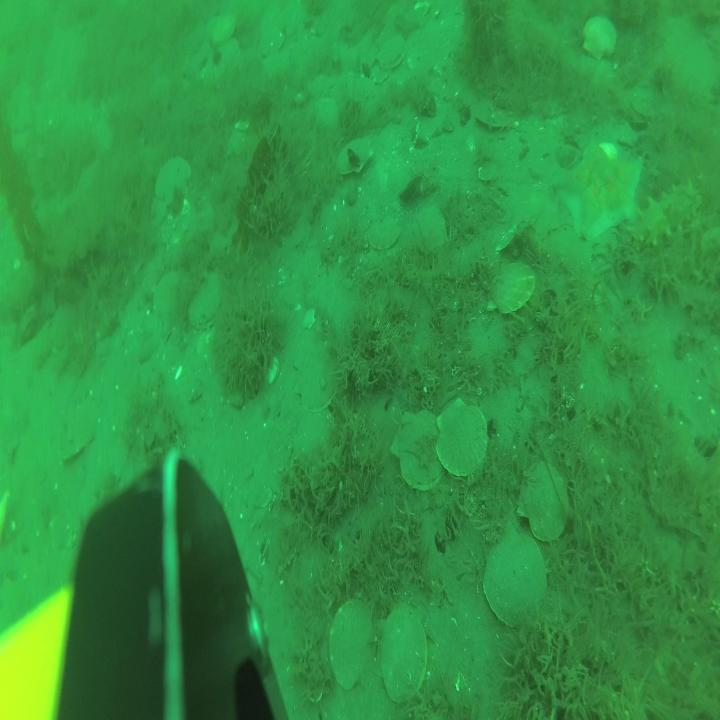holothurian: (633, 180, 707, 263)
scallop: (484, 533, 551, 630), (378, 595, 430, 709), (516, 455, 573, 546), (390, 409, 448, 498), (436, 393, 488, 482), (330, 600, 372, 694), (492, 259, 536, 316), (152, 270, 190, 324), (188, 276, 228, 327), (154, 158, 195, 207), (415, 204, 449, 261), (582, 15, 620, 66), (338, 134, 376, 177), (60, 427, 98, 467), (475, 103, 515, 140), (366, 215, 402, 254), (208, 11, 236, 50), (377, 38, 405, 76), (257, 22, 286, 57)
starfish: (558, 134, 648, 252)
